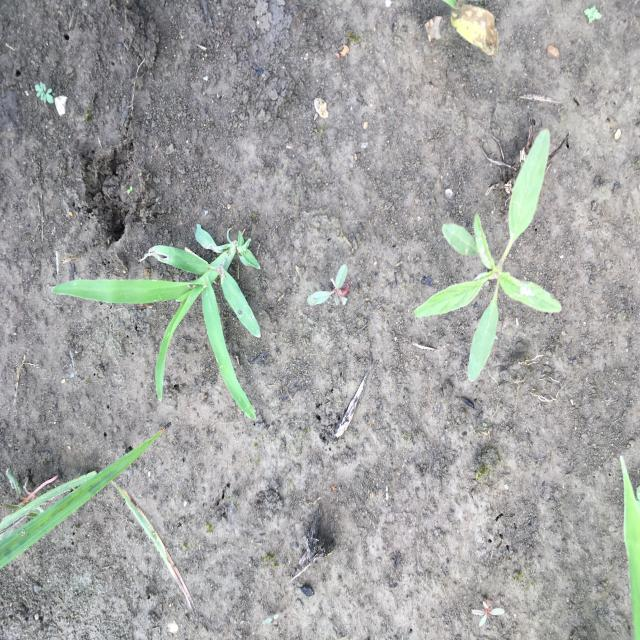Goosegrass: (49, 221, 264, 427)
Waterhemp: (412, 126, 564, 384)
